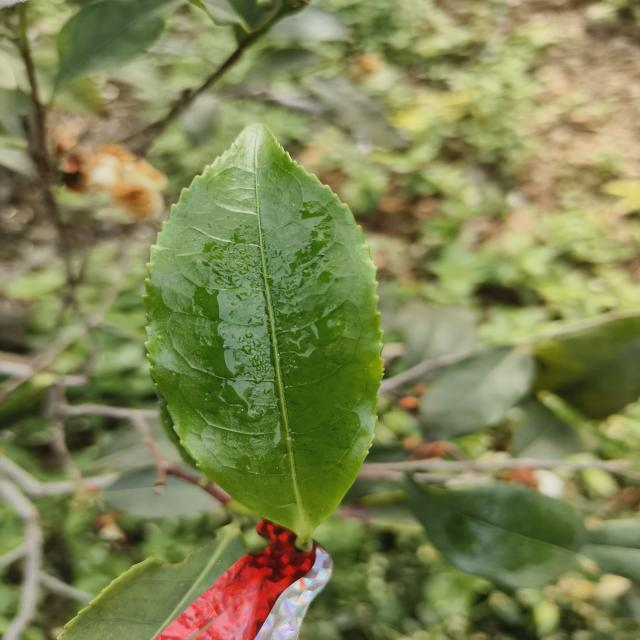Leaf: (145, 124, 382, 538), (58, 525, 245, 640), (405, 475, 586, 589), (534, 315, 640, 419), (419, 346, 536, 439), (55, 0, 174, 90), (105, 467, 219, 518), (396, 301, 478, 367)
